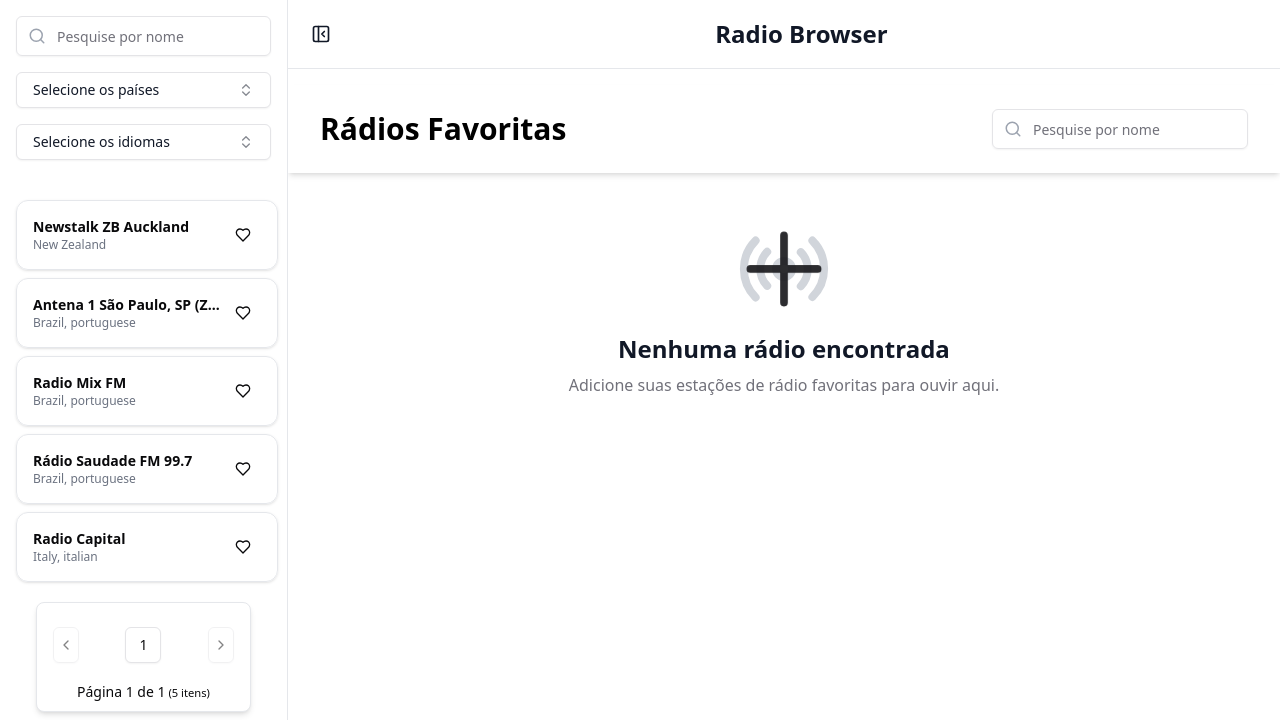
Test: Sidebar Tests › Radio Interactions › should display radio info on hover
Hover over the element with test id "a25700ef-e952-4b73-8b4e-b92d938cb020" at (147, 235), box [16,200,278,270]
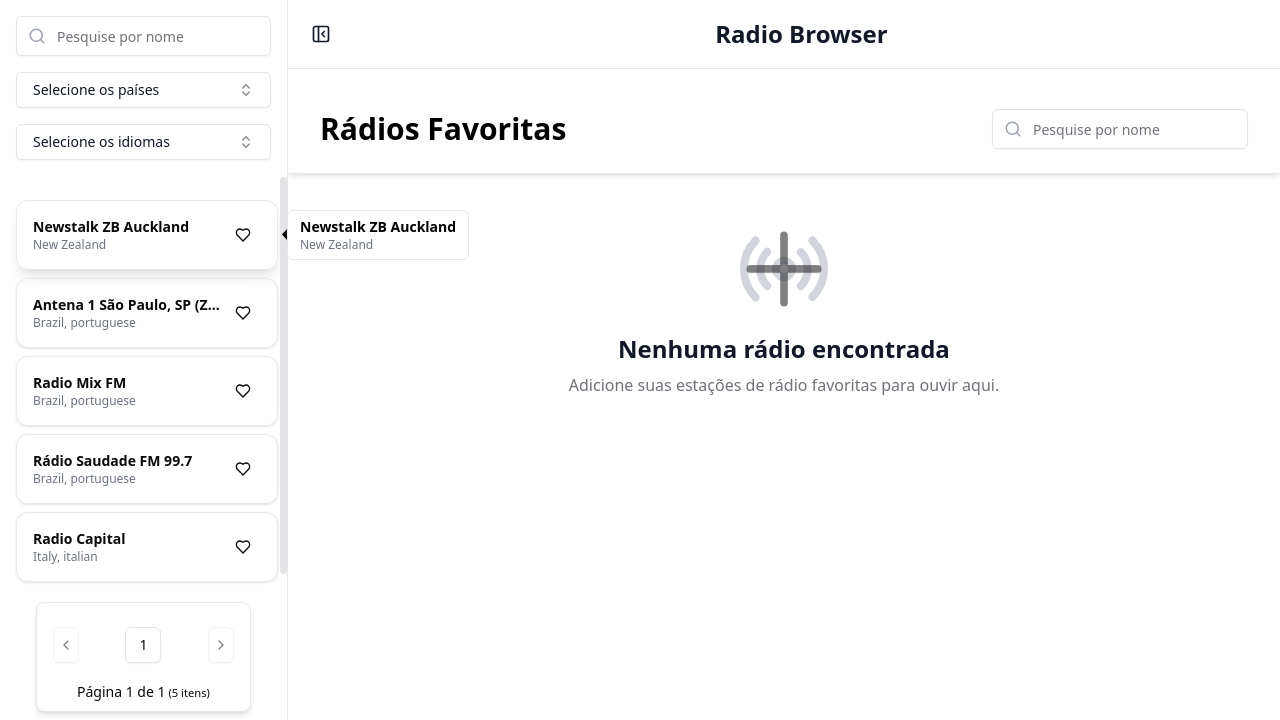
Result: the tooltip "Newstalk ZB Auckland New Zealand" is shown at [287,210,469,260]
